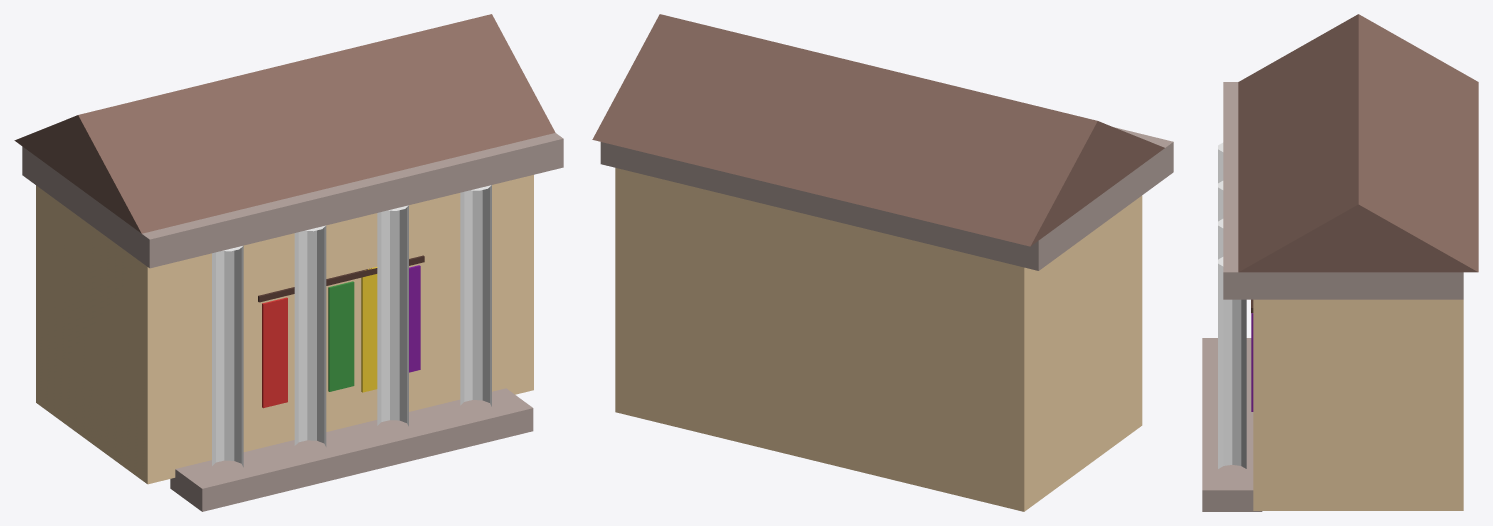
Rendered from bibliotek.glb.
3 renders of one model, left to right at view 1: azimuth 30°, elevation 25°; view 2: azimuth 150°, elevation 25°; view 3: azimuth 270°, elevation 25°, orthographic. The views are drawn at different scales.
Parts seen in each view (by area): view 1: bibliotek; view 2: bibliotek; view 3: bibliotek.
Part boxes in pixels (x1=…): bibliotek: x1=14, y1=14, x2=563, y2=511; bibliotek: x1=592, y1=14, x2=1173, y2=511; bibliotek: x1=1202, y1=14, x2=1478, y2=511.
Size of the model in its own units: 1.5 by 1.2 by 0.92.
